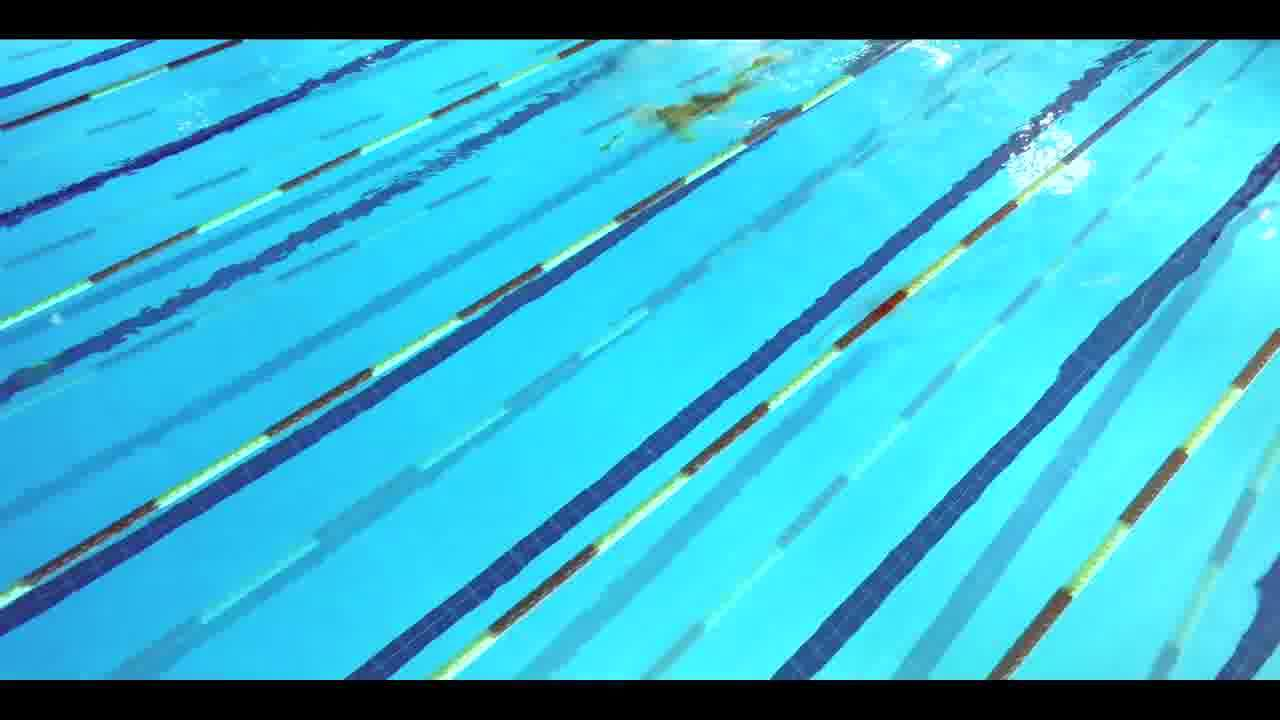swimmer: (617, 77, 768, 159)
